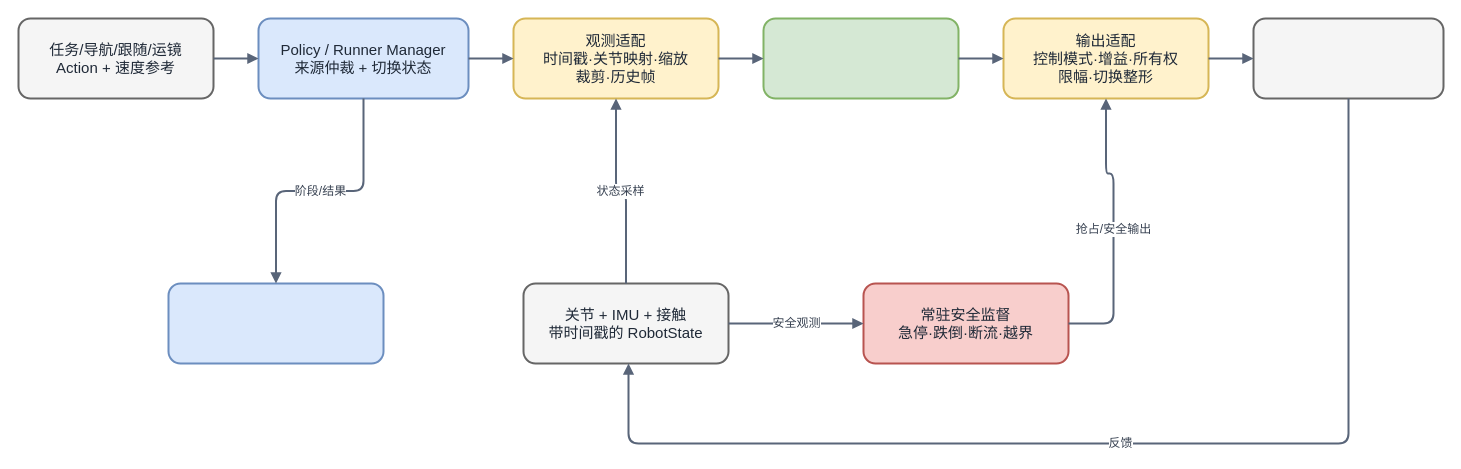
The diagram is 1461 pixels wide and 469 high, and some of its shapes have lost their labels. The centre of each missing label's shape, as x and y in pixels:
"IRunner 实例 经典控制 / ONNX 推理 过渡 / 恢复" belongs at (x=860, y=58).
"MotionStatus 当前/目标·phase switch_ready·fault" belongs at (x=275, y=323).
"唯一设备出口 驱动 / 电机" belongs at (x=1348, y=58).
